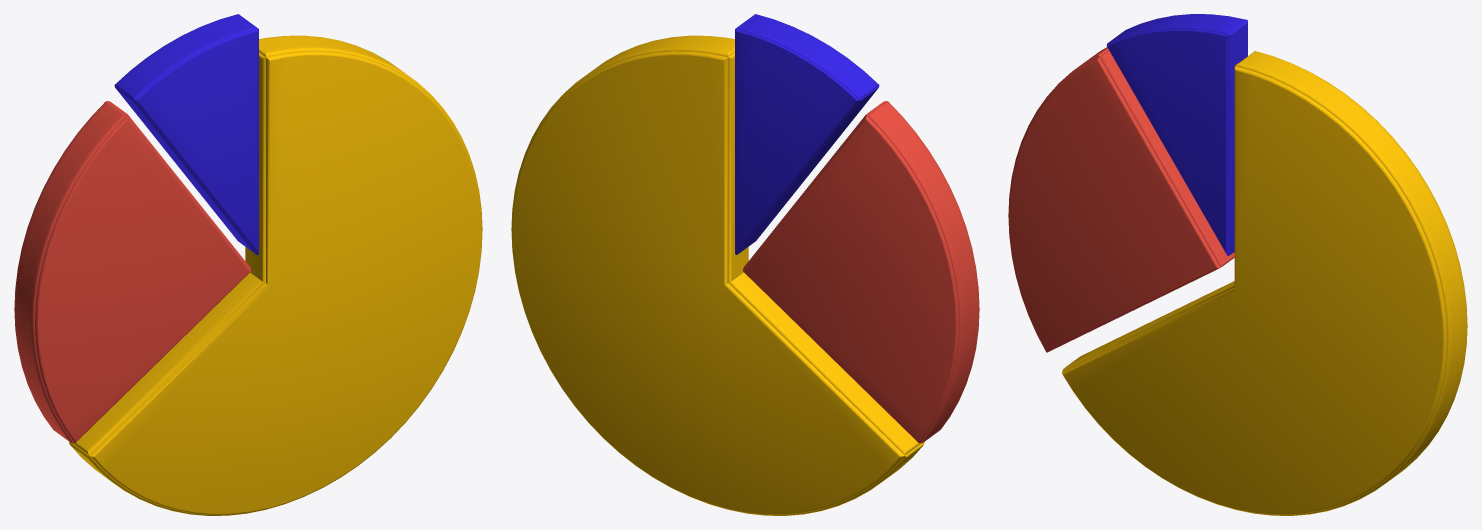
The model's file is graph.glb.
3 views of the same model, side by side, from view 1: azimuth 30°, elevation 25°; view 2: azimuth 150°, elevation 25°; view 3: azimuth 330°, elevation 25° (orthographic).
Parts seen in each view (by area): view 1: Diagram; view 2: Diagram; view 3: Diagram.
Part boxes in pixels (x1,y1,x2,y2): Diagram: (14,14,482,515); Diagram: (511,14,979,515); Diagram: (1008,14,1467,515).
Size of the model in its own units: 25.14 by 25.86 by 2.32.
